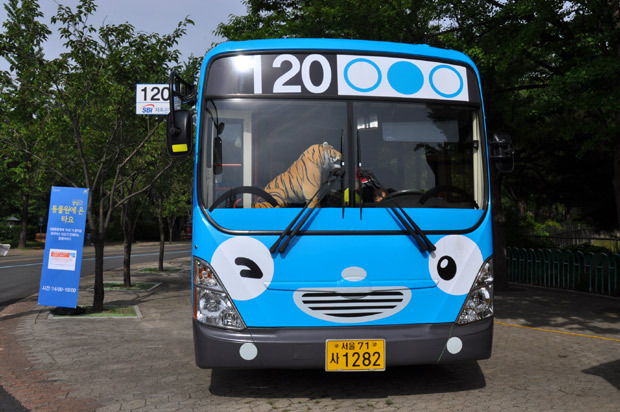bnum: (246, 54, 334, 94)
